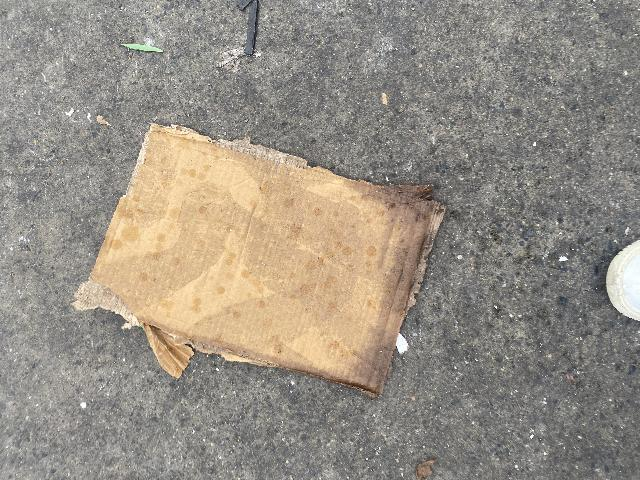Kagit: (72, 123, 444, 396)
Plastik: (222, 0, 306, 62)
